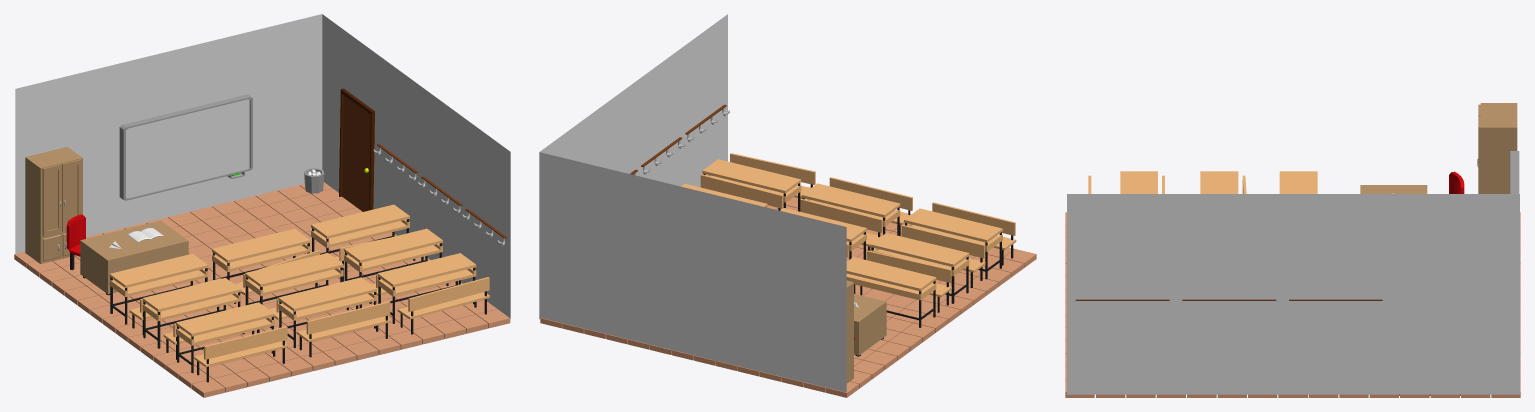
Rendered from SchoolClass.glb.
3 views of the same model, side by side, from view 1: azimuth 30°, elevation 25°; view 2: azimuth 150°, elevation 25°; view 3: azimuth 270°, elevation 25° (orthographic). The views are drawn at different scales.
Parts seen in each view (by area): view 1: Plane.002, Plane, Cube.647, Cube.591, Plane.003, Cube.628, Cube.627, Cube.630, Cube.632, Cube.633, Cube.629, Cube.631 (+9 smaller); view 2: Plane.002, Cube.627, Cube.628, Cube.633, Cube.632, Cube.631, Cube.591, Cube.642, Cube.639, Cube.643, Cube.641, Cube.645 (+5 smaller); view 3: Plane.002, Cube.647, Cube.628, Cube.627, Cube.633, Cube.591, Cube.634, Plane.
Boxes of the visible parts, <box> form: Plane.002: <box>15,14,510,318</box>; Plane: <box>119,94,252,200</box>; Cube.647: <box>25,147,82,263</box>; Cube.591: <box>80,220,188,294</box>; Plane.003: <box>339,88,374,211</box>; Cube.628: <box>142,278,241,348</box>; Cube.627: <box>109,253,208,324</box>; Cube.630: <box>245,253,343,305</box>; Cube.632: <box>377,253,476,323</box>; Cube.633: <box>176,302,274,373</box>; Cube.629: <box>344,228,442,280</box>; Cube.631: <box>278,277,376,348</box>; Plane.002: <box>539,14,846,392</box>; Cube.627: <box>846,257,936,327</box>; Cube.628: <box>870,233,969,303</box>; Cube.633: <box>904,208,1002,279</box>; Cube.632: <box>702,159,801,211</box>; Cube.631: <box>801,183,900,235</box>; Cube.591: <box>854,293,886,355</box>; Cube.642: <box>901,225,985,287</box>; Cube.639: <box>860,250,951,312</box>; Cube.643: <box>800,198,882,250</box>; Cube.641: <box>700,174,783,210</box>; Cube.645: <box>932,202,1016,265</box>; Plane.002: <box>1067,194,1519,394</box>; Cube.647: <box>1477,103,1517,193</box>; Cube.628: <box>1200,171,1238,193</box>; Cube.627: <box>1279,171,1317,193</box>; Cube.633: <box>1120,171,1157,193</box>; Cube.591: <box>1360,185,1427,193</box>; Cube.634: <box>1075,299,1382,300</box>; Plane: <box>1510,151,1519,193</box>.
Size of the model in its own units: 10.14 by 5.43 by 10.82.
